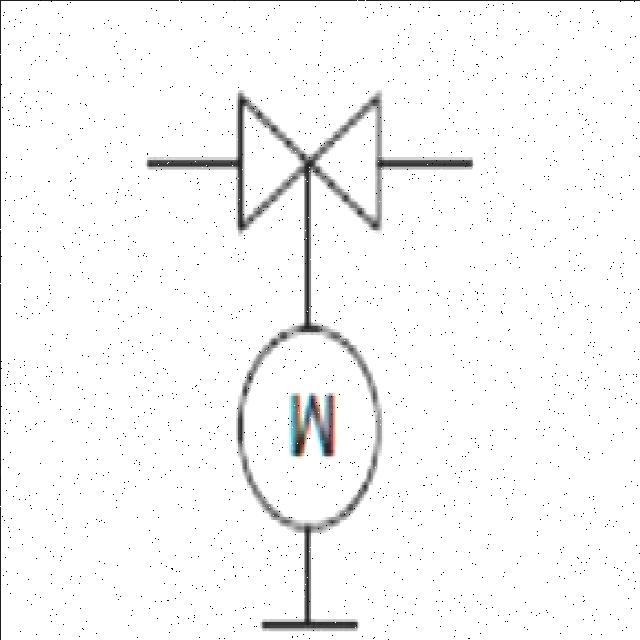Motor Operated Gate Valve: (204, 90, 447, 522)
